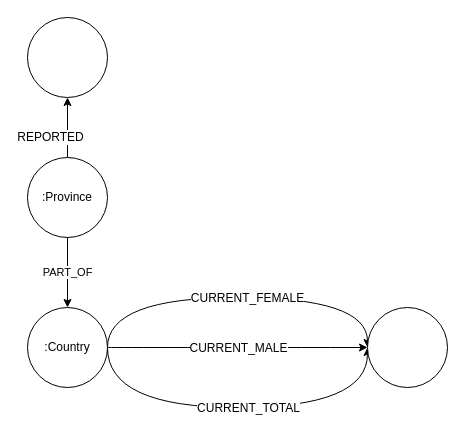
This 465x432 diagram has some shape labels left out. The centre of each missing label's shape, as x and y in pixels:
":AgeGroup" belongs at (x=407, y=347).
":DailyReport :Latest" belongs at (x=67, y=57).
